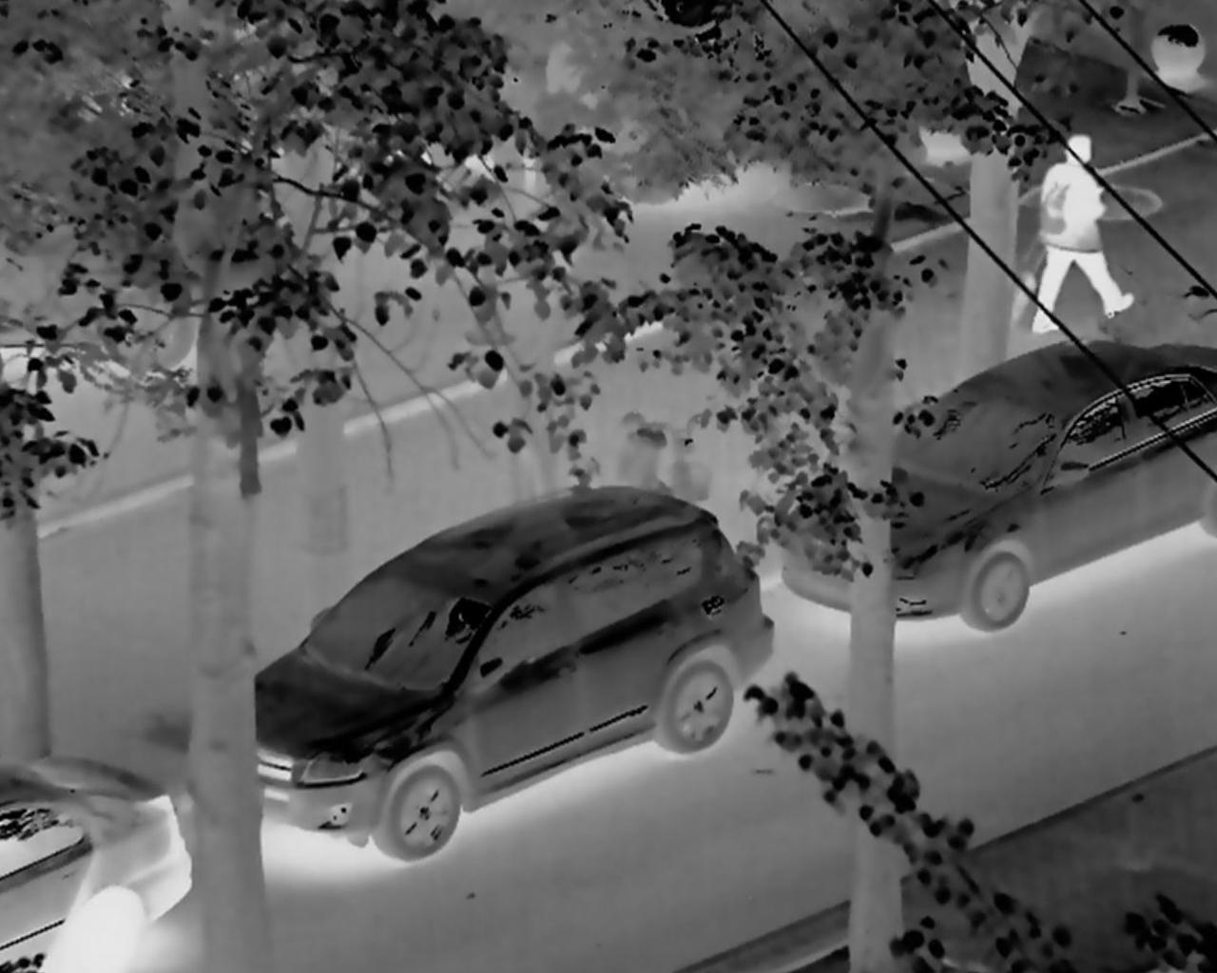person: (1021, 109, 1138, 355)
